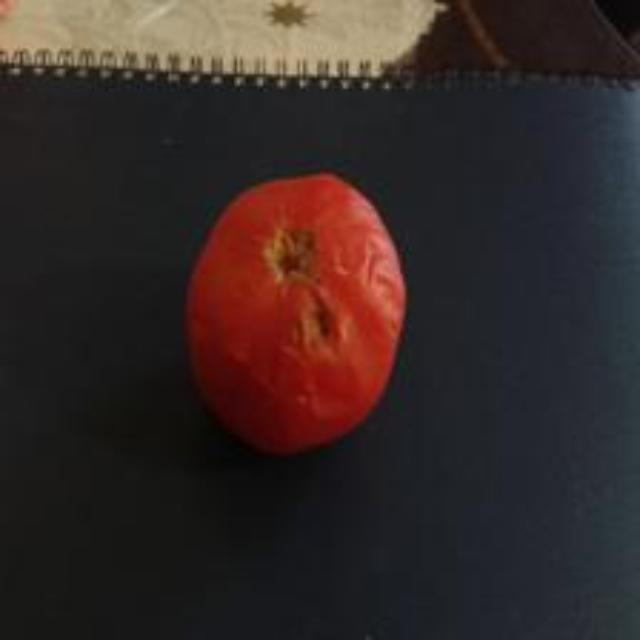defect: (180, 167, 410, 460)
